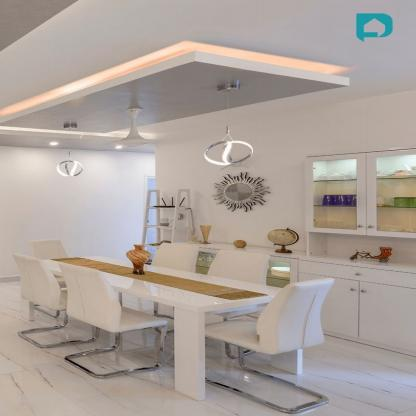Gypsum Board: (0, 0, 362, 149)
